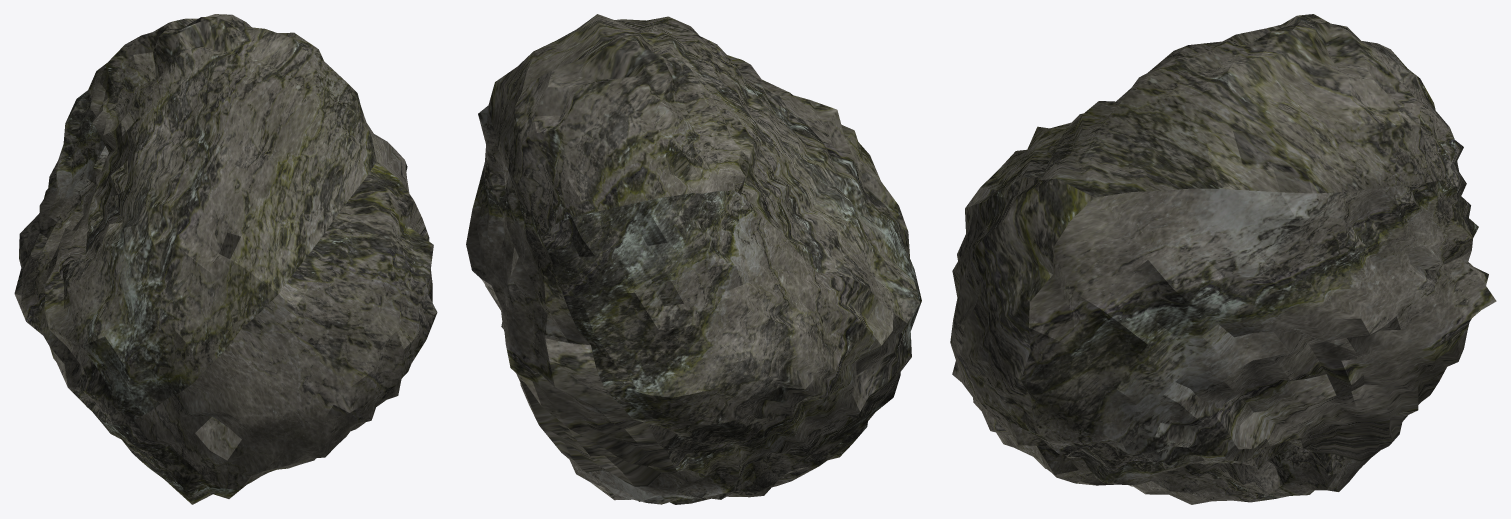
Rendered from Rock9.fbx.
3 views of the same model, side by side, from view 1: azimuth 30°, elevation 25°; view 2: azimuth 150°, elevation 25°; view 3: azimuth 270°, elevation 25° (orthographic). The views are drawn at different scales.
Visible parts, largest first — view 1: rock.009; view 2: rock.009; view 3: rock.009.
Boxes of the visible parts, x1,y1,x2,y2 form: rock.009: [14, 14, 437, 504]; rock.009: [466, 14, 921, 504]; rock.009: [950, 14, 1496, 504].
Size of the model in its own units: 100 by 118 by 116.
